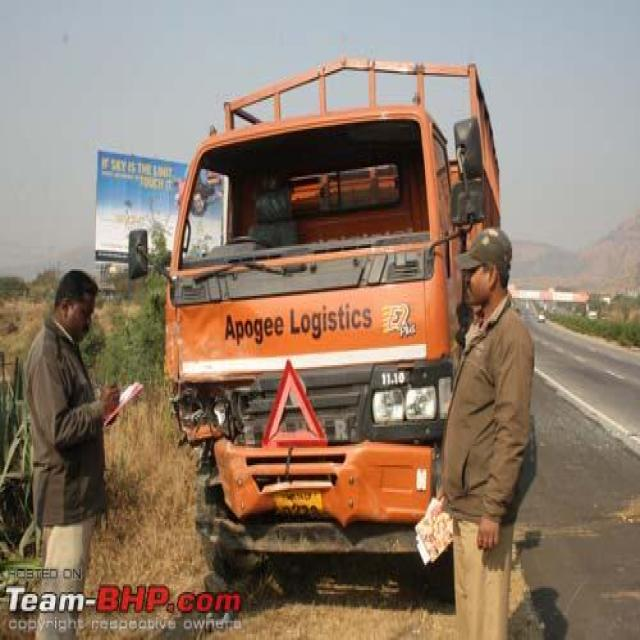accident: (127, 58, 500, 577)
